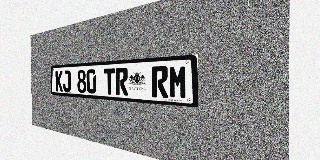0: (86, 69, 96, 94)
8: (77, 70, 86, 93)
J: (63, 70, 71, 92)
K: (55, 71, 63, 92)
M: (169, 65, 188, 99)
R: (152, 66, 168, 98), (115, 68, 128, 96)
T: (104, 68, 115, 95)
